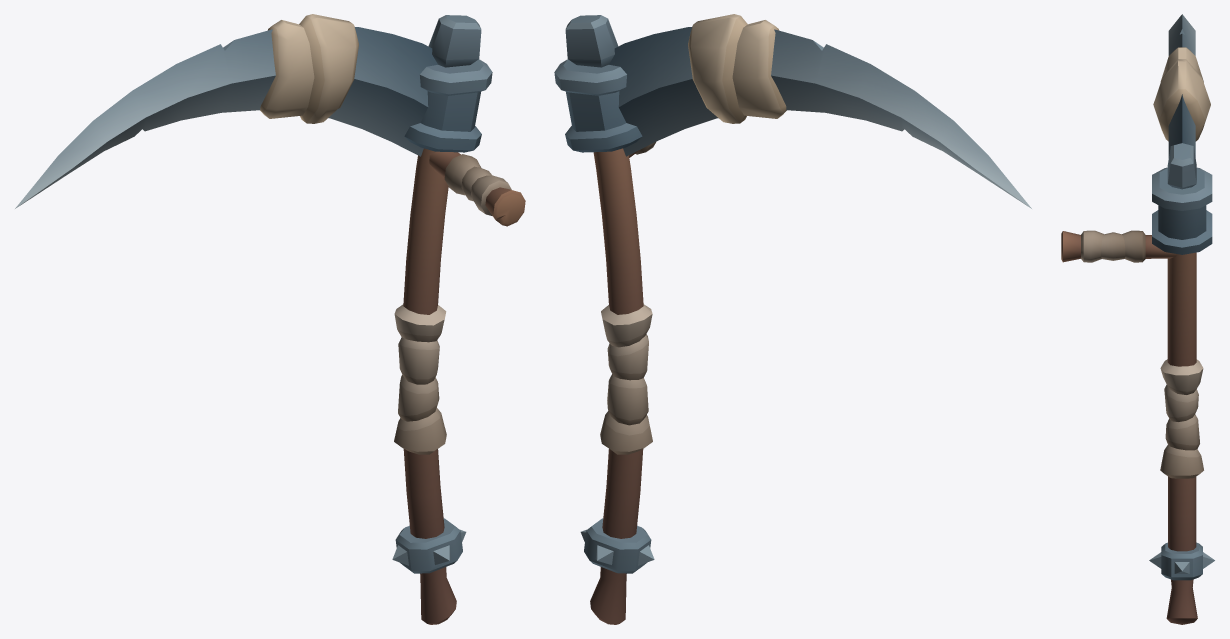
File: scythe.glb
The picture shows the model from 3 angles, left to right: view 1: azimuth 30°, elevation 25°; view 2: azimuth 150°, elevation 25°; view 3: azimuth 270°, elevation 25°; orthographic projection. The views are drawn at different scales.
Parts seen in each view (by area): view 1: scythe; view 2: scythe; view 3: scythe.
Part boxes in pixels (<box>): scythe: <box>15,14,525,624</box>; scythe: <box>554,14,1031,624</box>; scythe: <box>1061,14,1214,624</box>.
Size of the model in its own units: 1.64 by 2.11 by 0.5692.
1 material, 1 textured.
